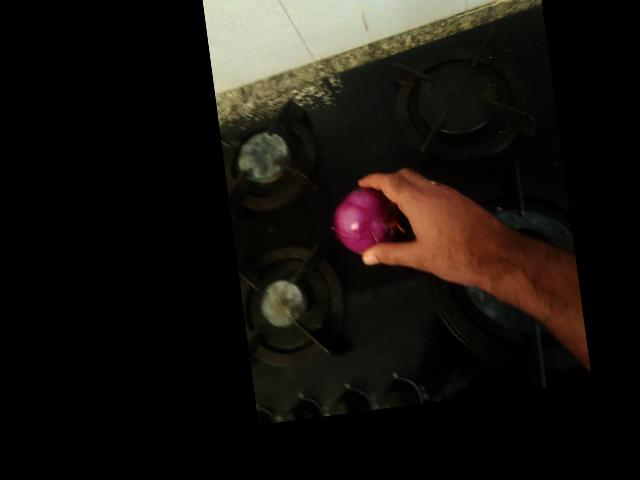onion: (254, 62, 331, 139)
